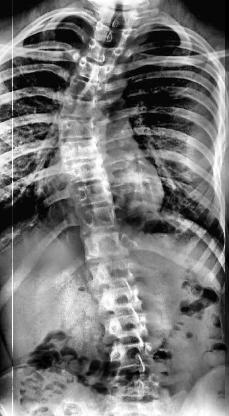Vertebrae: (89, 260, 143, 288), (79, 232, 131, 258), (106, 344, 158, 368), (69, 182, 117, 208), (57, 116, 109, 140), (63, 96, 115, 120), (94, 288, 144, 312), (79, 40, 129, 64), (104, 318, 152, 342), (74, 206, 122, 230), (64, 160, 112, 182), (66, 77, 116, 97), (87, 24, 137, 44), (57, 138, 102, 160), (72, 62, 122, 80)
